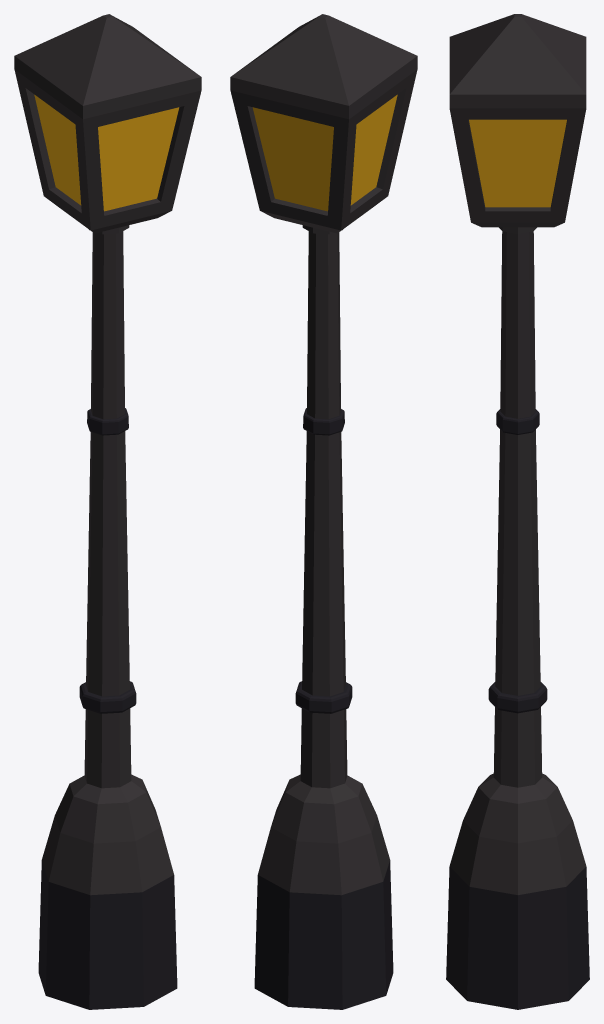
File: PosteVila2.fbx
3 views of the same model, side by side, from view 1: azimuth 30°, elevation 25°; view 2: azimuth 150°, elevation 25°; view 3: azimuth 270°, elevation 25° (orthographic).
Parts seen in each view (by area): view 1: Base_Lamp, Lamp; view 2: Base_Lamp, Lamp; view 3: Base_Lamp, Lamp.
Part boxes in pixels (x1,y1,x2,y2): Base_Lamp: (38, 225, 177, 1009); Lamp: (14, 14, 201, 233); Base_Lamp: (254, 225, 393, 1009); Lamp: (230, 14, 417, 233); Base_Lamp: (446, 227, 589, 1009); Lamp: (449, 14, 586, 227).
Size of the model in its own units: 35.37 by 262 by 35.37.
